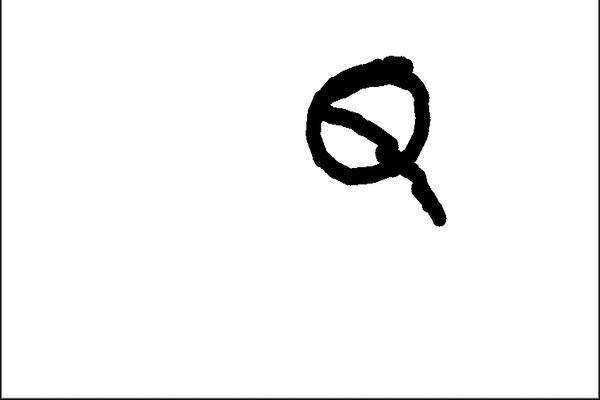Q: (295, 45, 448, 225)
